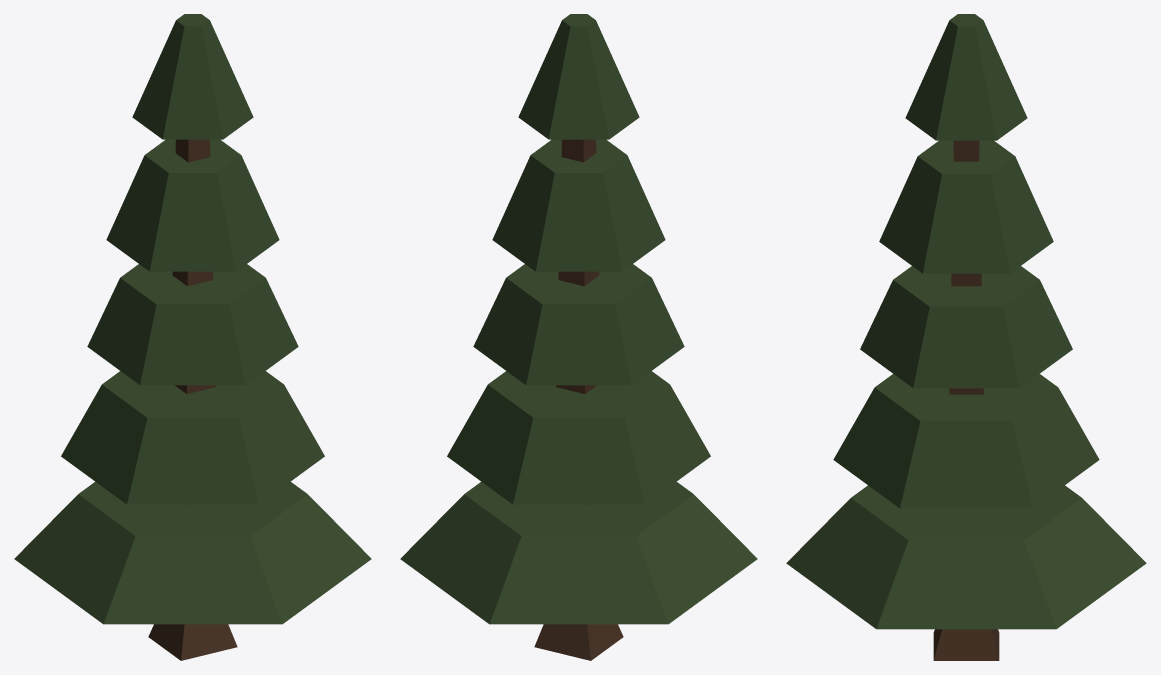
File: tree_pine_round_a.glb
3 renders of one model, left to right at view 1: azimuth 30°, elevation 25°; view 2: azimuth 150°, elevation 25°; view 3: azimuth 270°, elevation 25°, orthographic.
Parts seen in each view (by area): view 1: tree_pineRoundA; view 2: tree_pineRoundA; view 3: tree_pineRoundA.
Part boxes in pixels (bbox=[...]): tree_pineRoundA: bbox=[14, 14, 371, 660]; tree_pineRoundA: bbox=[400, 14, 757, 660]; tree_pineRoundA: bbox=[786, 14, 1146, 660].
Bounding box in the file's own units: 0.617 × 1.37 × 0.7125.
